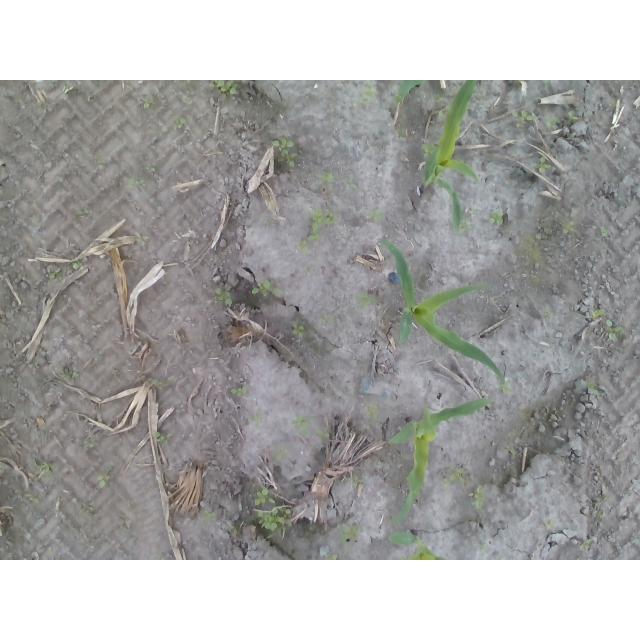Maize: (376, 238, 504, 385), (386, 397, 494, 523), (421, 81, 480, 234), (387, 526, 449, 560), (393, 80, 428, 105)
Weeds: (254, 487, 295, 534), (270, 137, 299, 172), (309, 207, 338, 241), (441, 464, 466, 495), (468, 484, 489, 513), (251, 279, 282, 298), (509, 108, 536, 129), (364, 400, 380, 433), (33, 457, 56, 479), (581, 379, 607, 398), (359, 81, 377, 108), (338, 522, 362, 542), (607, 317, 626, 341), (353, 293, 377, 312), (209, 81, 239, 96), (214, 286, 235, 307), (96, 464, 113, 488), (294, 414, 314, 434), (528, 158, 553, 173), (543, 112, 561, 130), (319, 174, 338, 191), (73, 208, 92, 225), (290, 319, 306, 337), (489, 209, 506, 225), (134, 232, 151, 248), (223, 521, 241, 536), (155, 430, 169, 449), (272, 445, 288, 461), (295, 238, 309, 256), (175, 116, 194, 129), (579, 536, 594, 552), (127, 175, 145, 187), (230, 387, 249, 398), (368, 210, 384, 223), (144, 96, 157, 112), (64, 367, 80, 379), (592, 495, 609, 506), (346, 177, 359, 191), (561, 220, 576, 232), (566, 110, 578, 125), (320, 315, 336, 326), (592, 308, 609, 318), (203, 511, 218, 522), (63, 81, 74, 96), (398, 126, 408, 142), (351, 472, 359, 490), (80, 504, 96, 513), (544, 519, 558, 529), (145, 163, 160, 172), (81, 440, 96, 449), (502, 385, 514, 396), (320, 431, 332, 442), (543, 80, 553, 93), (71, 260, 82, 271), (48, 272, 61, 281), (250, 416, 263, 425), (507, 446, 518, 456), (599, 227, 609, 238), (612, 347, 625, 354), (324, 554, 339, 560), (544, 310, 553, 320), (151, 377, 161, 386), (32, 496, 41, 505), (459, 223, 466, 234), (478, 544, 486, 553), (48, 81, 57, 88), (472, 209, 480, 216)
